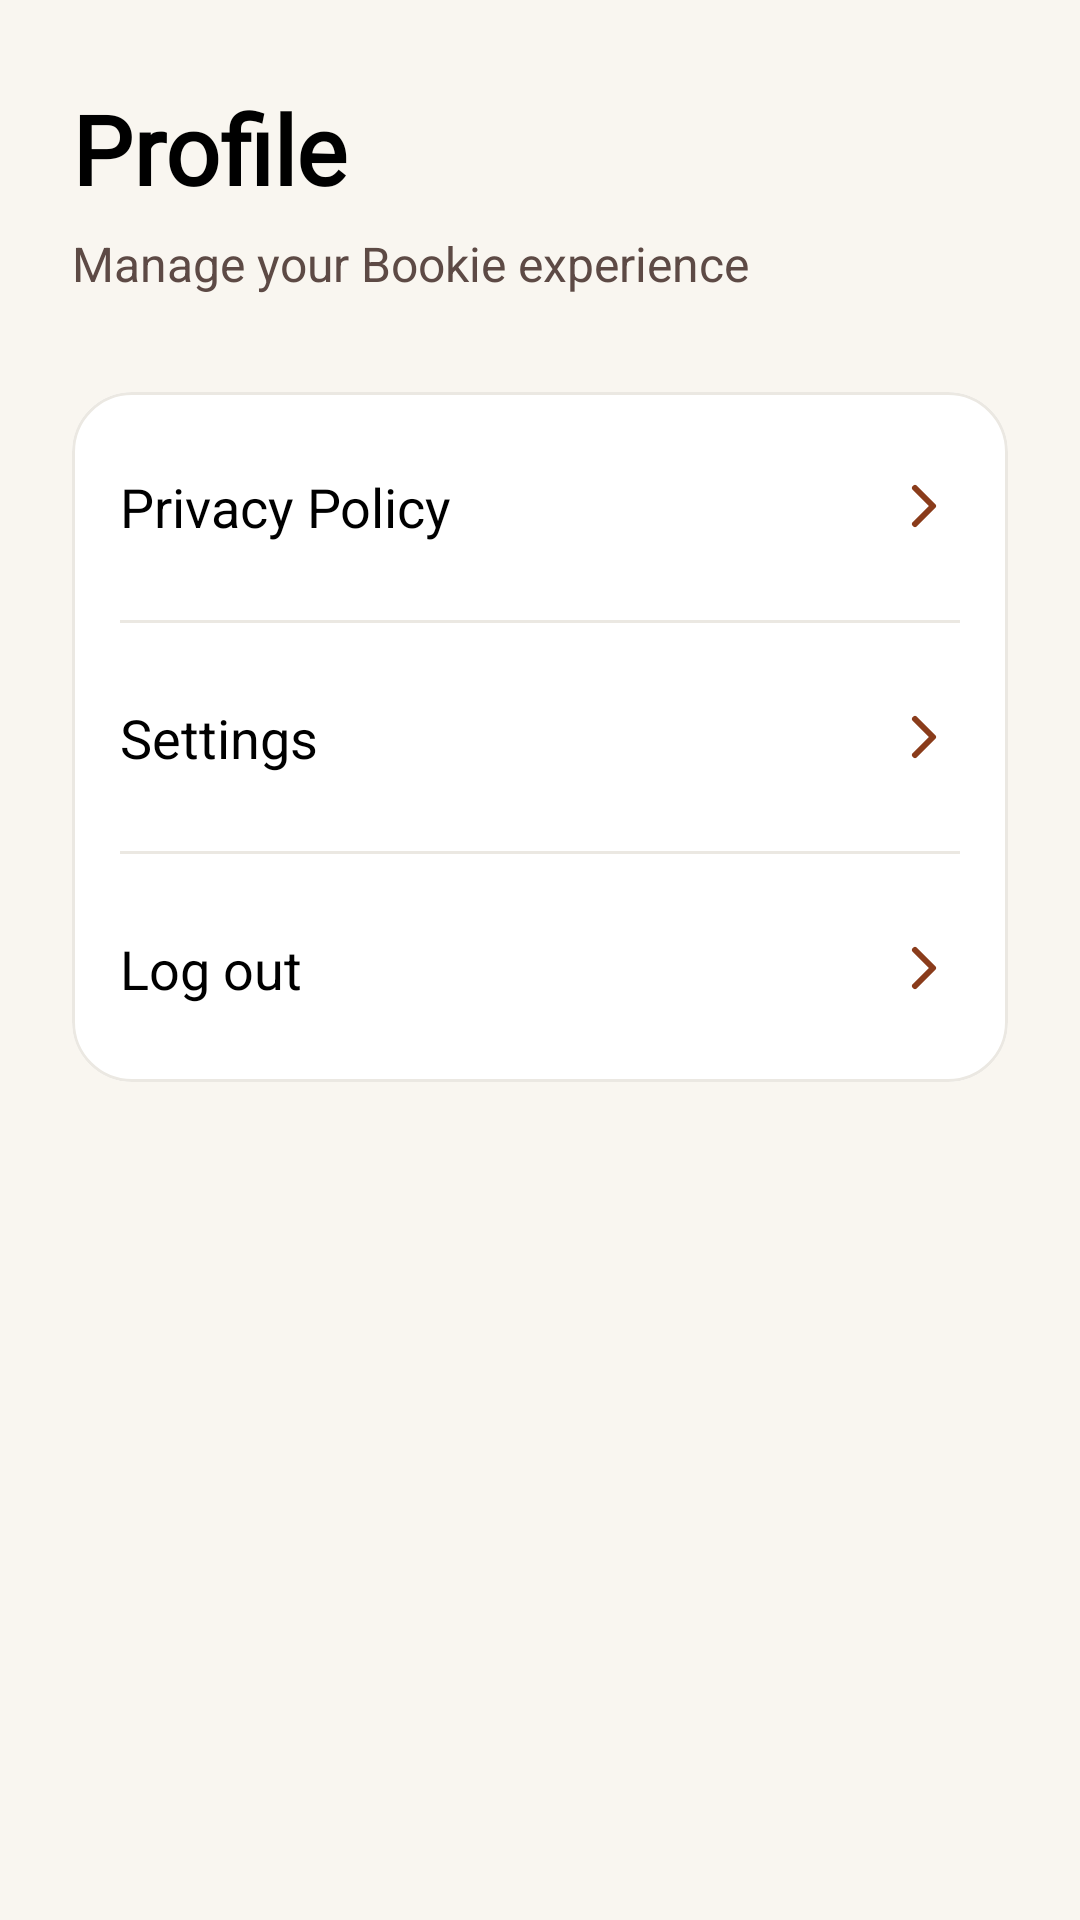

Icons on this 1080*1920 Android screen, each with its box as region(x1, y1, x2, y2):
chevron right: region(912, 485, 936, 527), region(912, 716, 936, 758), region(912, 947, 936, 989)
